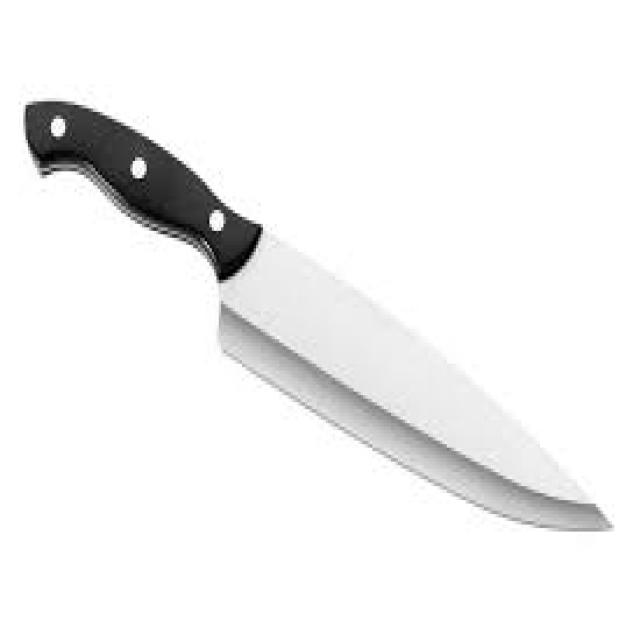Knife: (21, 101, 614, 532)
